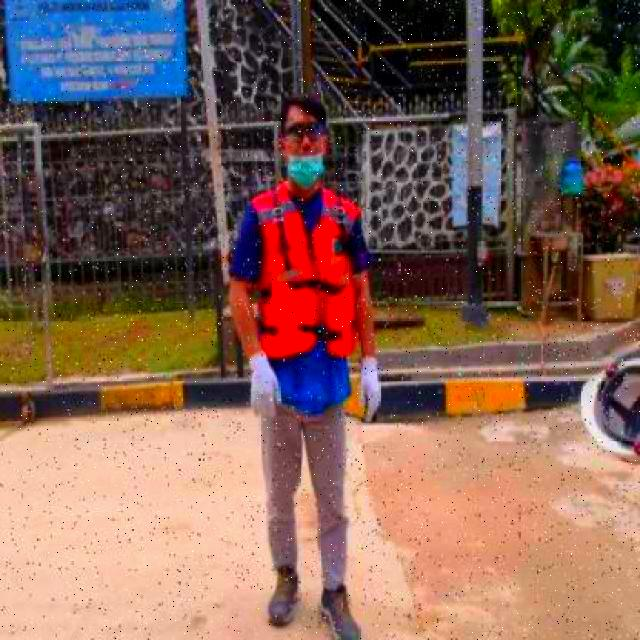Boots: (316, 580, 361, 638), (266, 564, 302, 632)
Gloves: (244, 346, 282, 419), (354, 354, 384, 424)
Helmet: (576, 326, 638, 474)
Mask: (258, 242, 357, 360)
